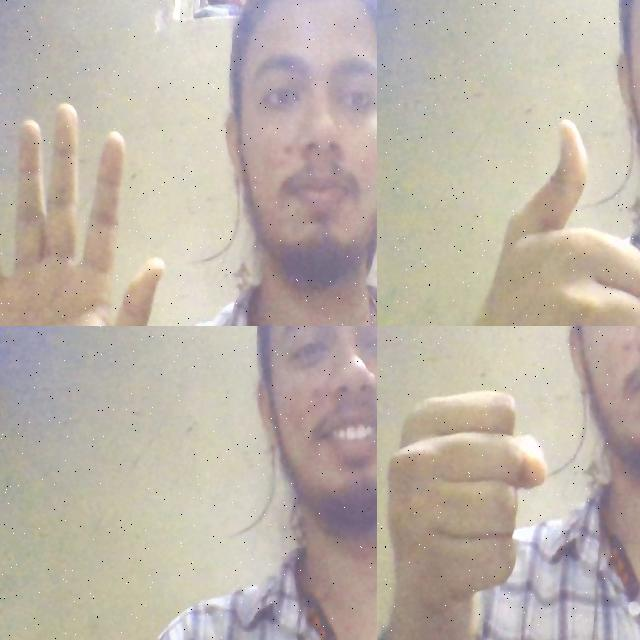Hello: (0, 87, 177, 326)
No: (377, 382, 557, 634)
Yes: (475, 114, 640, 326)
